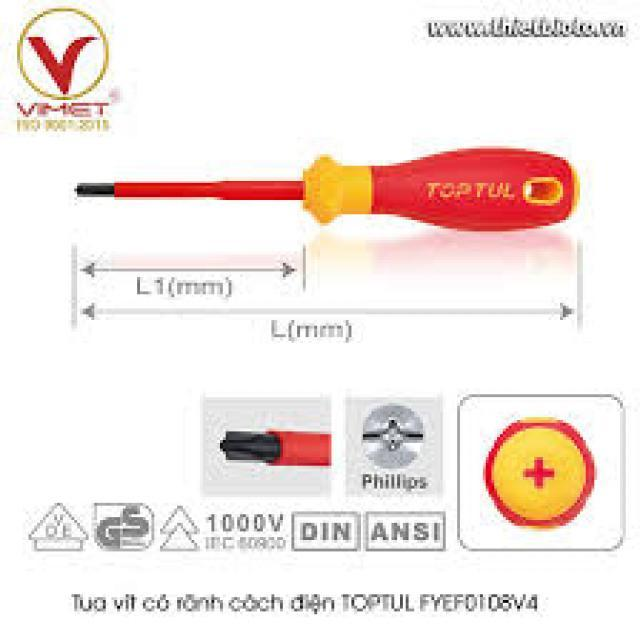screwdriver: (71, 144, 580, 233)
